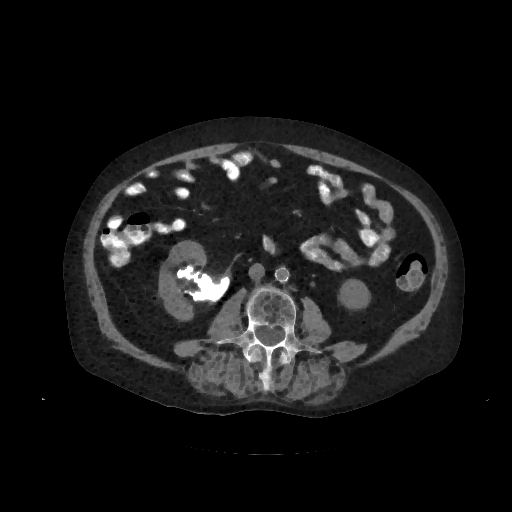Lesion: (173, 260, 230, 305)
